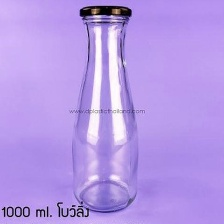bottle: (65, 2, 160, 215)
